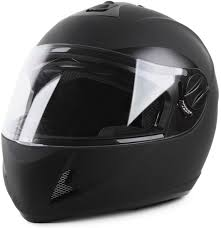helmet: (1, 1, 221, 223)
